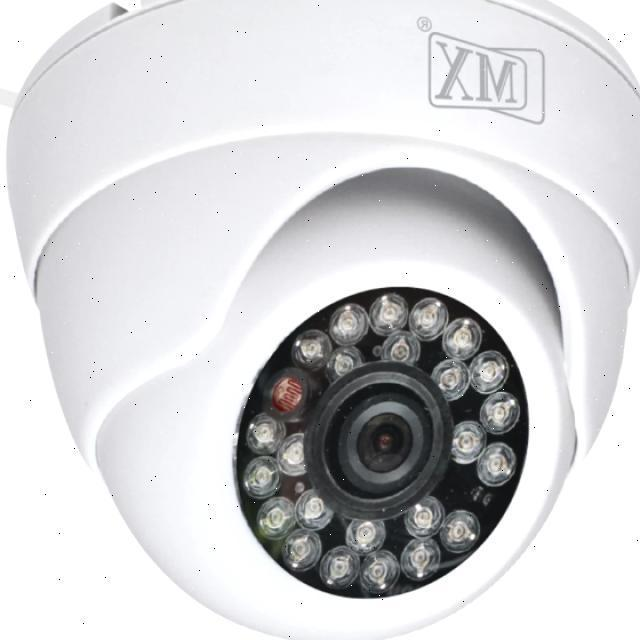cctv: (41, 105, 614, 640)
